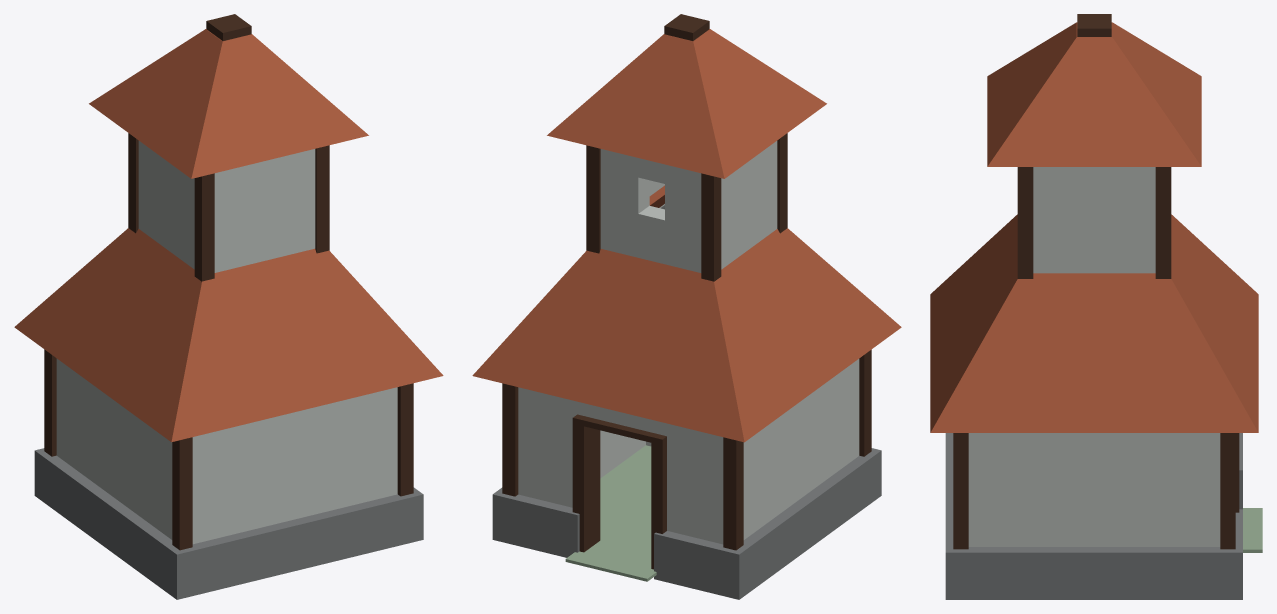
Rendered from mill_main.fbx.
3 renders of one model, left to right at view 1: azimuth 30°, elevation 25°; view 2: azimuth 150°, elevation 25°; view 3: azimuth 270°, elevation 25°, orthographic. The views are drawn at different scales.
Parts seen in each view (by area): view 1: mill_main; view 2: mill_main; view 3: mill_main.
Boxes of the visible parts, x1,y1,x2,y2 form: mill_main: (14, 14, 443, 599); mill_main: (472, 14, 901, 599); mill_main: (930, 14, 1262, 599).
Bounding box in the file's own units: 486 × 846 × 492.
